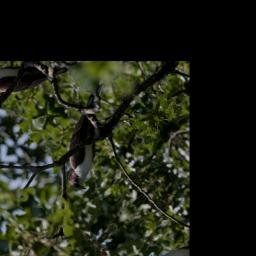Cuckoo: (30, 76, 148, 196)
